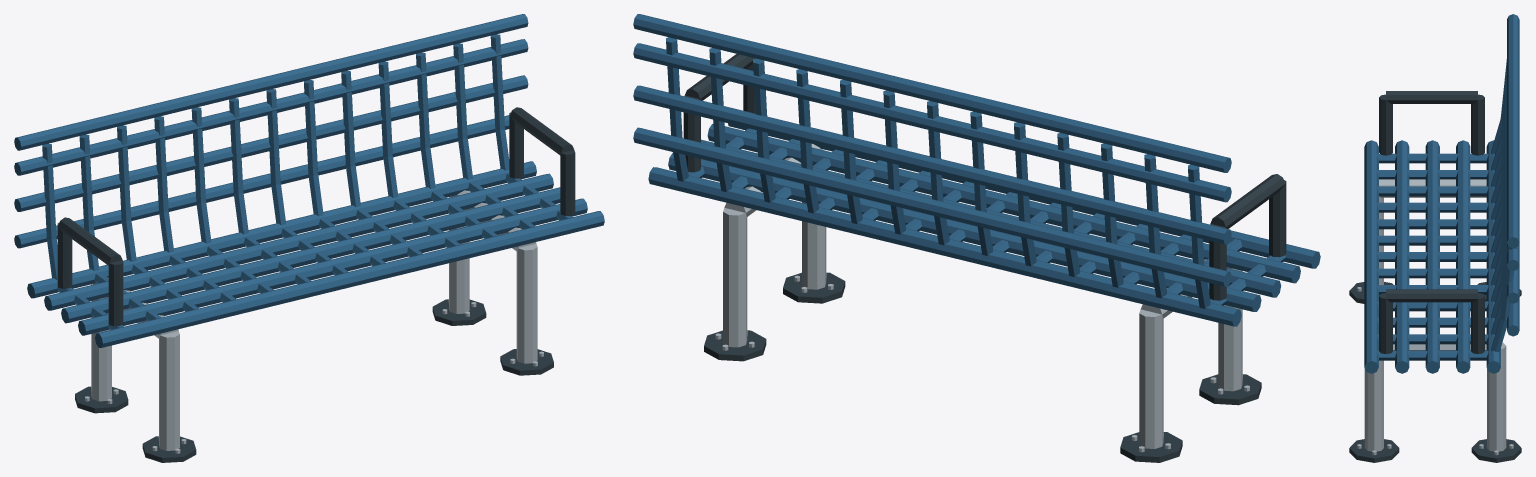
File: b01_perforated_steel_bench.glb
3 renders of one model, left to right at view 1: azimuth 30°, elevation 25°; view 2: azimuth 150°, elevation 25°; view 3: azimuth 270°, elevation 25°, orthographic. The views are drawn at different scales.
Visible parts, largest first — view 1: b01_perforated_steel_bench; view 2: b01_perforated_steel_bench; view 3: b01_perforated_steel_bench.
Boxes of the visible parts, box(x1,y1,x2,y2) form: b01_perforated_steel_bench: box(14, 14, 604, 462); b01_perforated_steel_bench: box(633, 14, 1320, 462); b01_perforated_steel_bench: box(1349, 14, 1521, 462).
Bounding box in the file's own units: 1.9 × 0.987 × 0.62.
